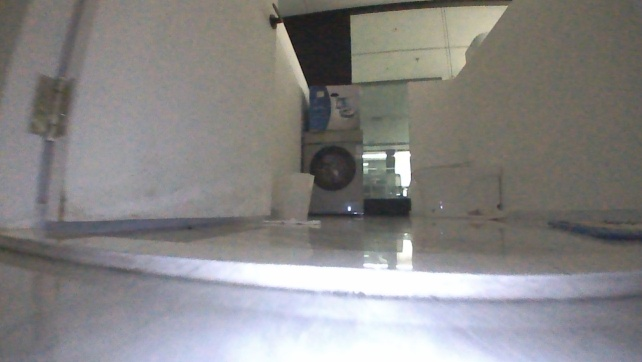socks: (259, 214, 320, 231)
toilet: (407, 158, 507, 221)
trash_can: (268, 167, 315, 225)
washing_machine: (295, 127, 369, 218)
